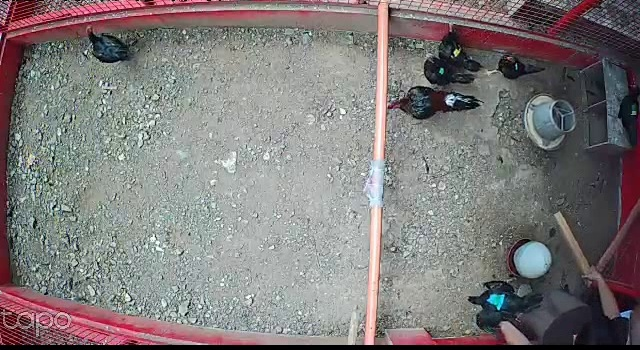Chicken: (464, 279, 545, 329), (481, 46, 550, 84), (82, 23, 137, 66), (419, 50, 475, 91), (435, 33, 486, 73), (612, 79, 640, 148)
Drinker: (507, 237, 555, 278)
Feeder: (525, 92, 578, 151)
Rooster: (384, 80, 484, 122)
Saddle_Color_Yellow: (449, 43, 461, 59)
Saddle_Color_YellowGreen: (629, 102, 637, 117)
